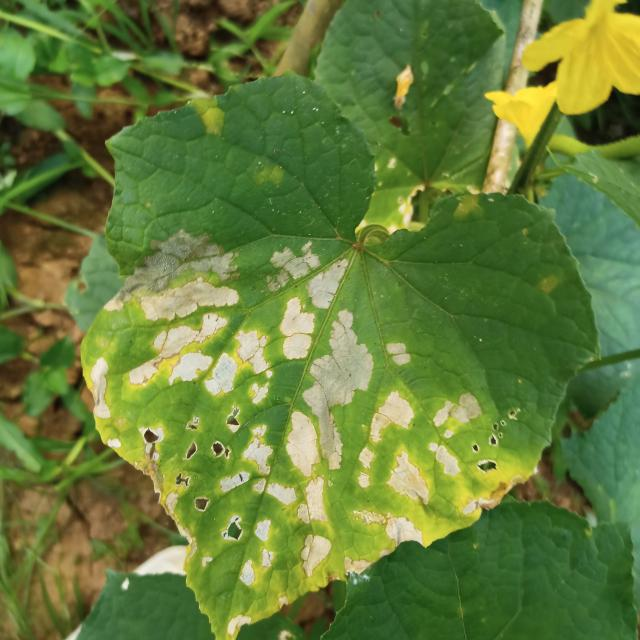disease_cucumber: (81, 235, 485, 625), (182, 90, 234, 142)
